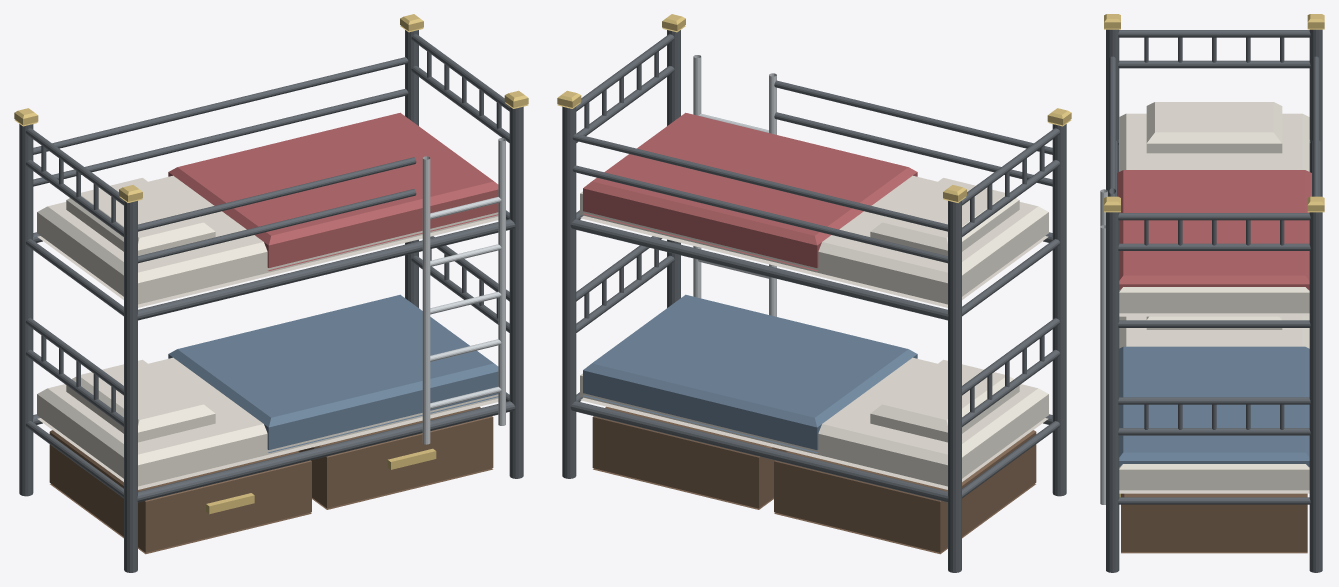
Rendered from sf_pro_dorm_bunkbed.glb.
3 renders of one model, left to right at view 1: azimuth 30°, elevation 25°; view 2: azimuth 150°, elevation 25°; view 3: azimuth 270°, elevation 25°, orthographic. The views are drawn at different scales.
Parts seen in each view (by area): view 1: ProDormBunkPure3D_Root; view 2: ProDormBunkPure3D_Root; view 3: ProDormBunkPure3D_Root.
Boxes of the visible parts, box(x1,y1,x2,y2) form: ProDormBunkPure3D_Root: box(14, 14, 528, 572); ProDormBunkPure3D_Root: box(557, 14, 1071, 572); ProDormBunkPure3D_Root: box(1100, 14, 1324, 572).
Bounding box in the file's own units: 2.12 × 1.93 × 1.06.
